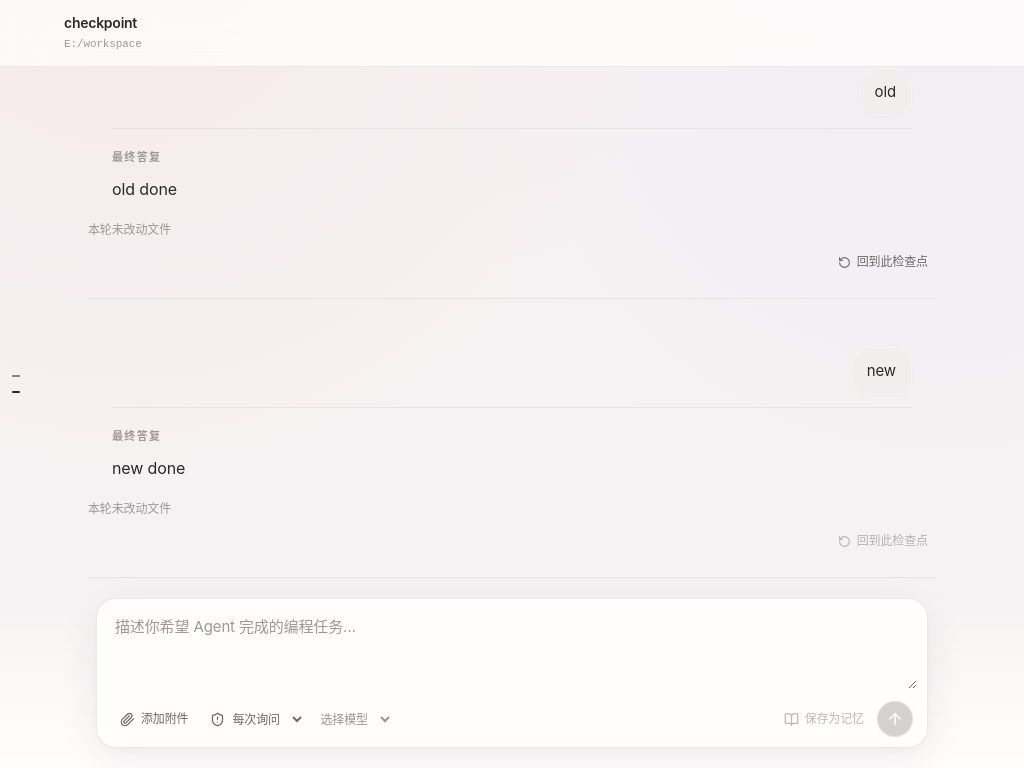
Test: checkpoint restore UI › previews the restore and reuses its idempotency key after a lost response
(page scrolled)
Click the button with test id "checkpoint-restore-turn-old" at [883, 262], box [830, 246, 936, 278]
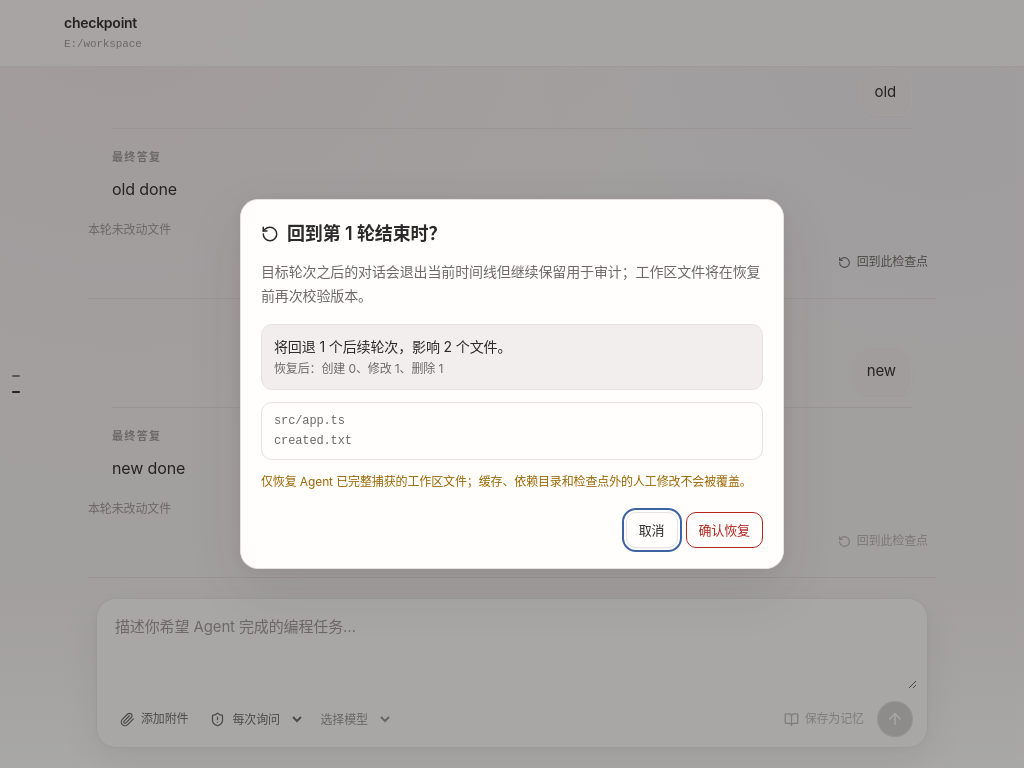
Expected: the text "将回退 1 个后续轮次，影响 2 个文件。" is shown, [274, 338, 511, 355]
Click the button with test id "checkpoint-confirm" at [724, 530], box [686, 512, 763, 548]
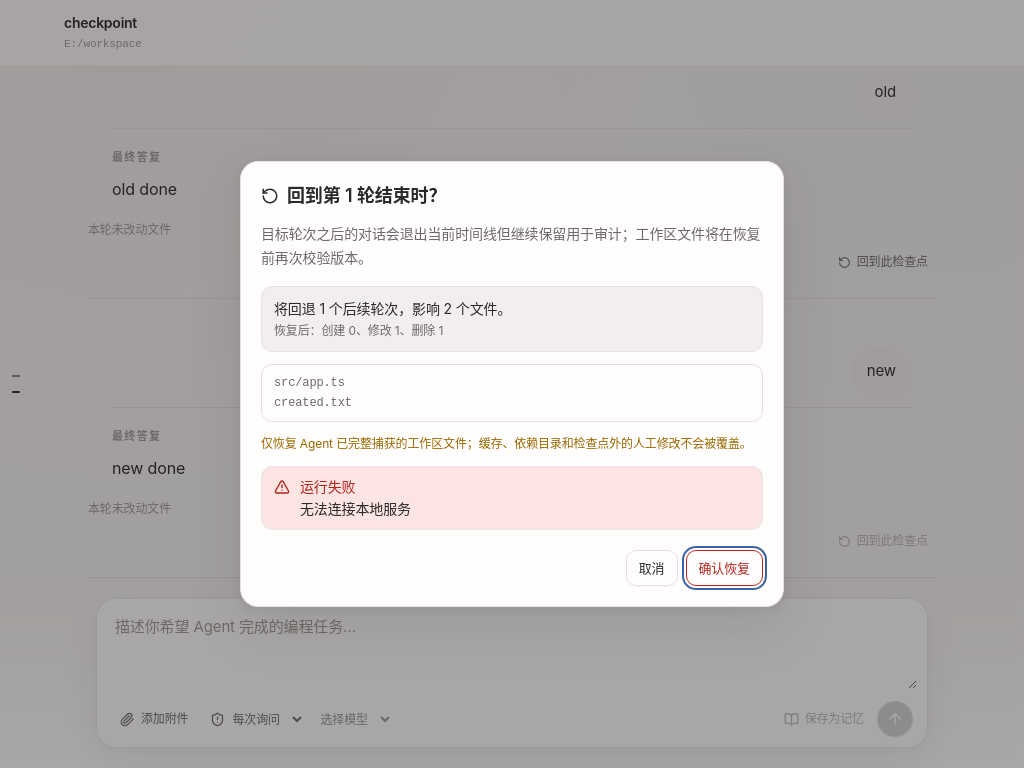
Expected: the text "无法连接本地服务" is shown, [300, 500, 411, 517]
Click the button with test id "checkpoint-confirm" at [724, 568], box [686, 550, 763, 586]
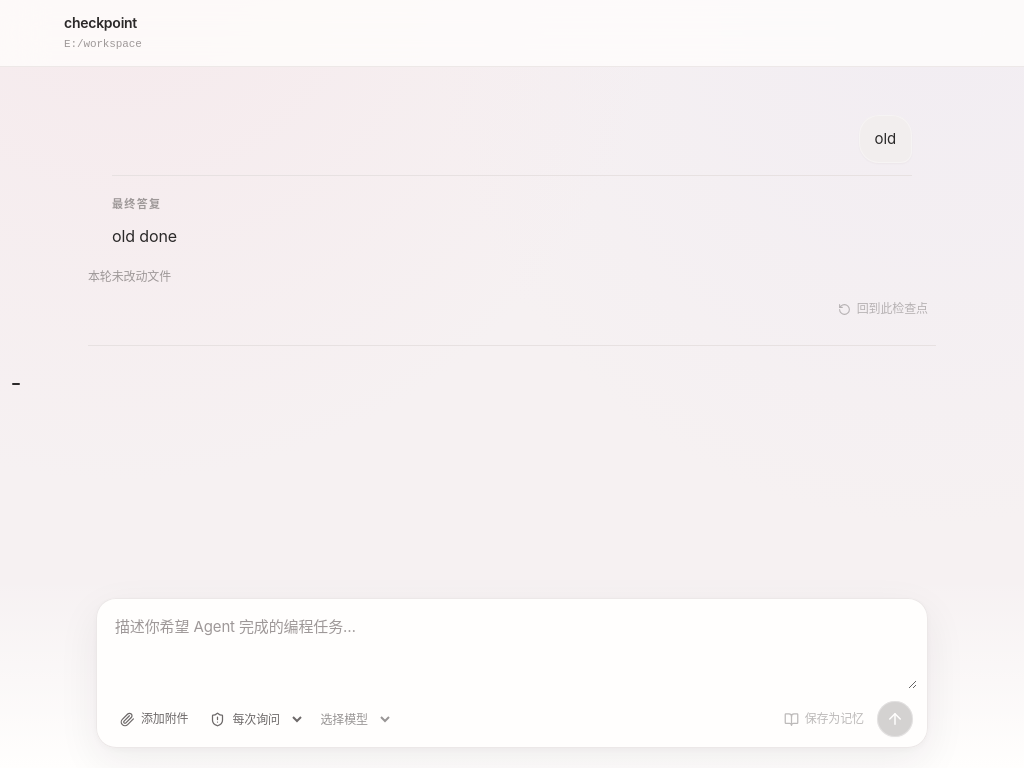
Expected: the heading "回到第 1 轮结束时？" is gone
